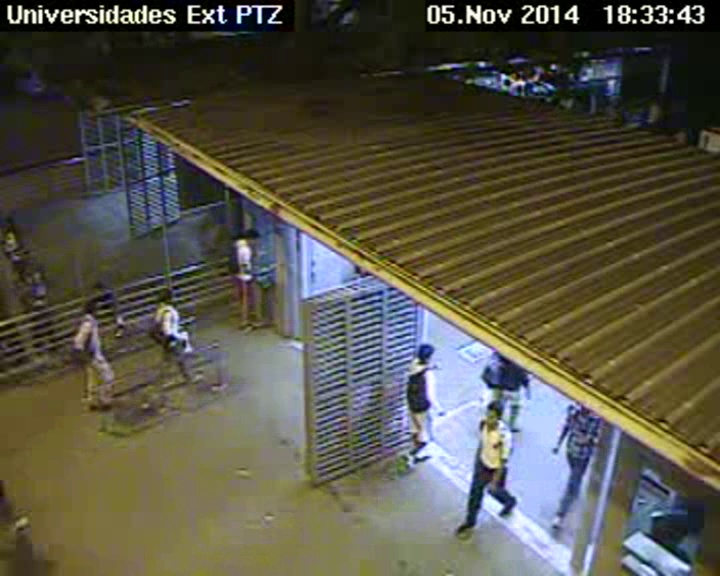person: (483, 399, 504, 428), (415, 342, 437, 363), (578, 393, 598, 414), (159, 287, 178, 307), (82, 298, 101, 318), (243, 226, 260, 245), (2, 217, 15, 231), (31, 271, 43, 284), (92, 282, 103, 293)
